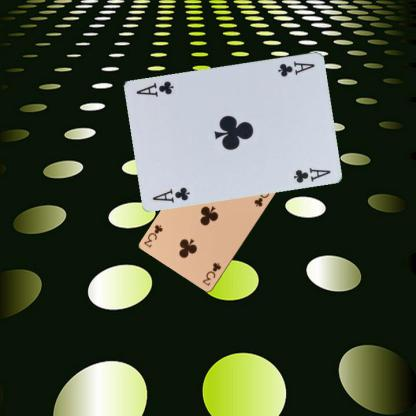3c: (200, 260, 222, 287)
Ac: (275, 58, 316, 78), (150, 184, 191, 204)
